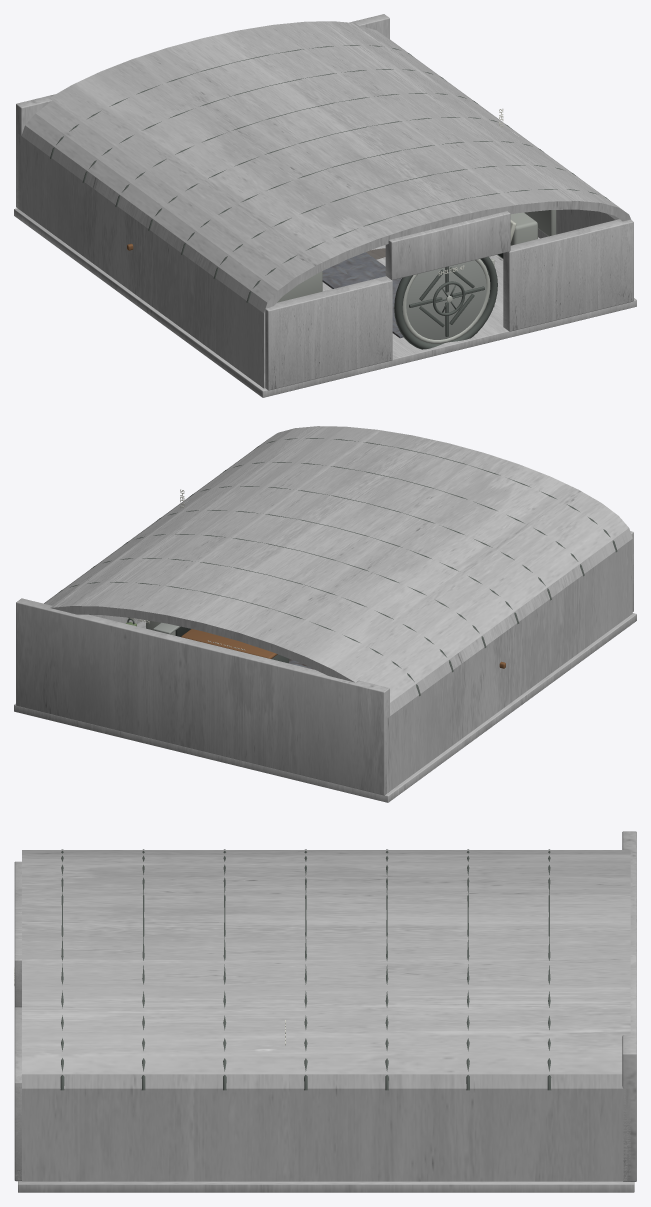
File: shelter47_room_v4.glb
3 renders of one model, top to bottom at view 1: azimuth 30°, elevation 25°; view 2: azimuth 150°, elevation 25°; view 3: azimuth 270°, elevation 25°, orthographic. The views are drawn at different scales.
Visible parts, largest first — view 1: Bunker_ConcreteShell, FrontWall_R, FrontWall_L, FloorSlab, FrontWall_Top, BlastDoor_Door, ServiceWalkway, BlastDoor_FrameOuter, RearWall, BlastDoor_FrameInner, OpsConsole_Base, CCTV_Console (+1 smaller); view 2: Bunker_ConcreteShell, RearWall, FloorSlab, Desk_Top; view 3: Bunker_ConcreteShell, FloorSlab, RearWall, FrontWall_R, FrontWall_Top.
Boxes of the visible parts, x1=… form: Bunker_ConcreteShell: x1=18, y1=21, x2=631, y2=388; FrontWall_R: x1=503, y1=219, x2=633, y2=331; FrontWall_L: x1=265, y1=276, x2=392, y2=390; FloorSlab: x1=14, y1=208, x2=636, y2=397; FrontWall_Top: x1=385, y1=211, x2=510, y2=280; BlastDoor_Door: x1=406, y1=260, x2=486, y2=339; ServiceWalkway: x1=322, y1=252, x2=403, y2=338; BlastDoor_FrameOuter: x1=394, y1=256, x2=497, y2=349; RearWall: x1=16, y1=14, x2=389, y2=209; BlastDoor_FrameInner: x1=402, y1=259, x2=490, y2=343; OpsConsole_Base: x1=497, y1=212, x2=537, y2=258; CCTV_Console: x1=277, y1=271, x2=322, y2=302; Bunker_ConcreteShell: x1=44, y1=426, x2=632, y2=793; RearWall: x1=16, y1=598, x2=389, y2=795; FloorSlab: x1=14, y1=613, x2=636, y2=802; Desk_Top: x1=181, y1=629, x2=277, y2=658; Bunker_ConcreteShell: x1=22, y1=850, x2=630, y2=1181; FloorSlab: x1=18, y1=1181, x2=634, y2=1192; RearWall: x1=622, y1=831, x2=636, y2=1181; FrontWall_R: x1=14, y1=1007, x2=21, y2=1181; FrontWall_Top: x1=14, y1=888, x2=21, y2=1007.
Bounding box in the file's own units: 13.26 × 4.51 × 15.36.
Materials: 26 (2 with a texture image).
